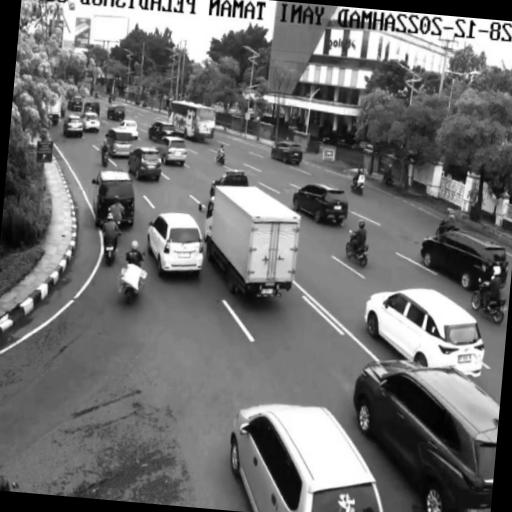bus: (167, 101, 215, 140)
car: (353, 360, 499, 511), (230, 404, 382, 511), (364, 289, 484, 377), (420, 231, 507, 289), (147, 212, 203, 275), (92, 170, 134, 225), (292, 184, 348, 224), (209, 168, 248, 196), (127, 147, 160, 180), (157, 136, 186, 165), (105, 127, 132, 156), (270, 142, 301, 164), (147, 122, 182, 141), (322, 131, 354, 147), (62, 114, 82, 137), (81, 112, 99, 132), (119, 120, 137, 139), (107, 105, 124, 121), (83, 101, 99, 116), (67, 96, 82, 111)
truck: (204, 186, 299, 296), (47, 98, 60, 125)
